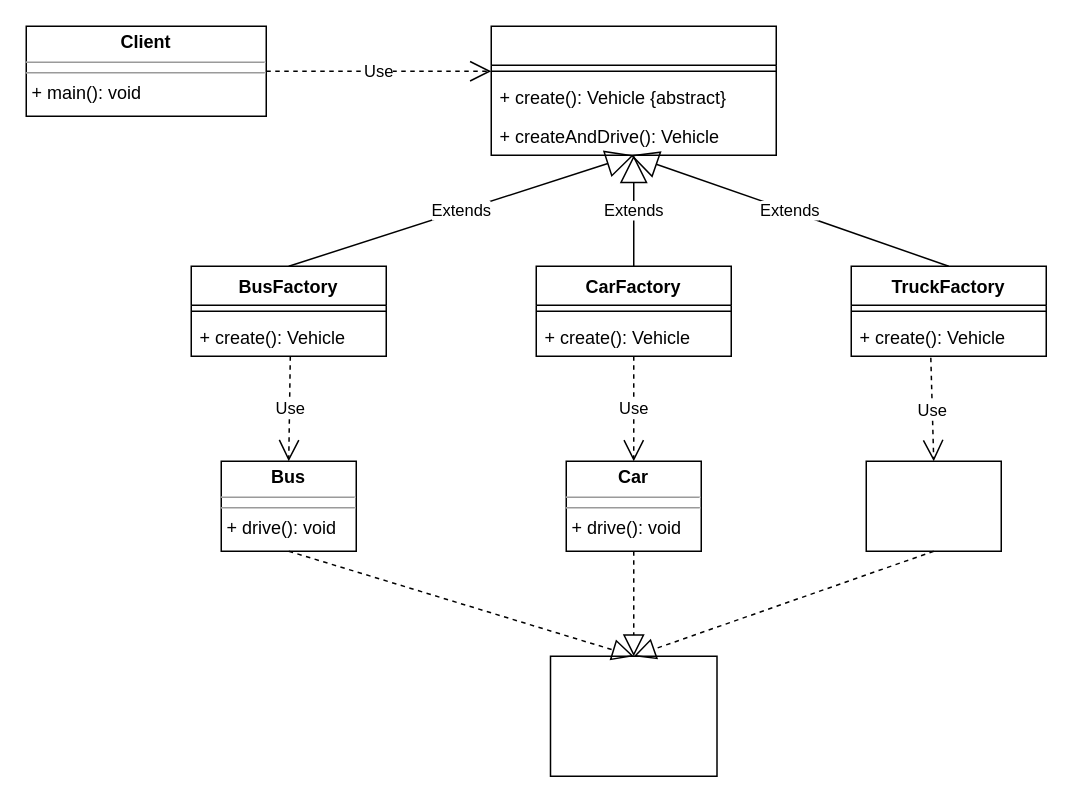
This 1073x803 diagram has some shape labels left out. Each missing label, with the box of its shape:
<<Interface>> Vehicle + drive(): void: (549, 655, 717, 776)
Truck + drive(): void: (865, 460, 1001, 551)
VehicleFactory {abstract}: (490, 25, 776, 155)
